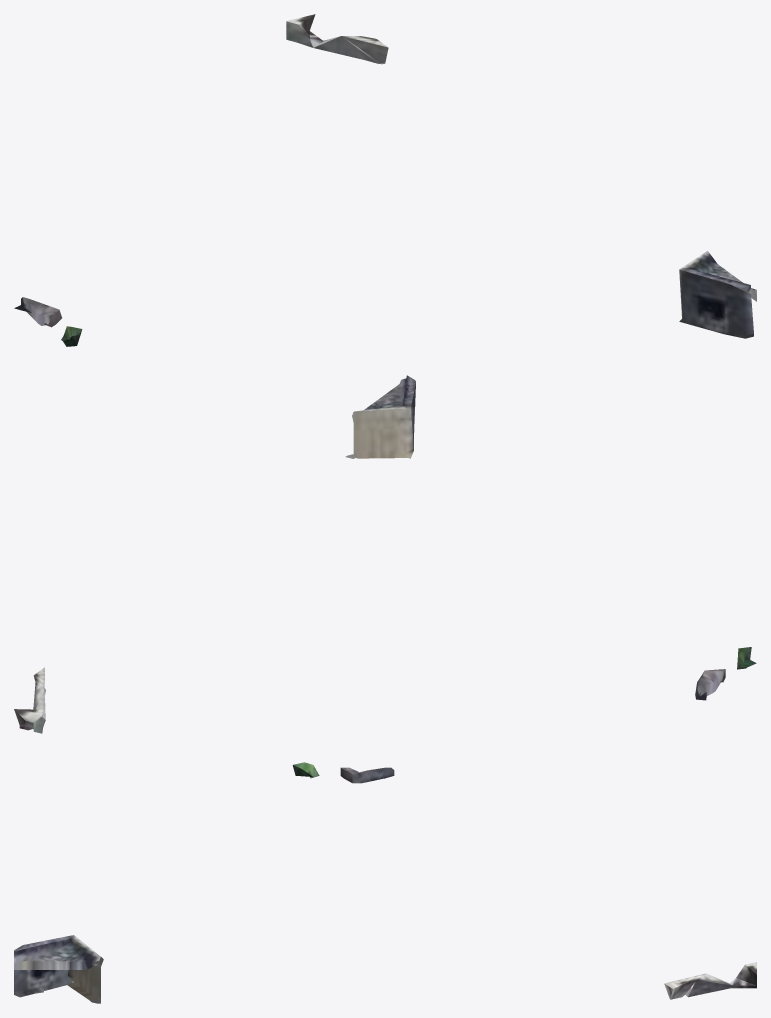
3 renders of one model, top to bottom at view 1: azimuth 30°, elevation 25°; view 2: azimuth 150°, elevation 25°; view 3: azimuth 270°, elevation 25°, orthographic. The views are drawn at different scales.
Visible parts, largest first — view 1: 30436272704361637627_0; view 2: 30436272704361637627_0; view 3: 30436272704361637627_0.
Part boxes in pixels (x1,y1,x2,y2): 30436272704361637627_0: [14, 14, 756, 346]; 30436272704361637627_0: [14, 375, 756, 733]; 30436272704361637627_0: [14, 762, 756, 1003].
Size of the model in its own units: 28.22 by 2.92 by 38.26.
1 material, 1 textured.
